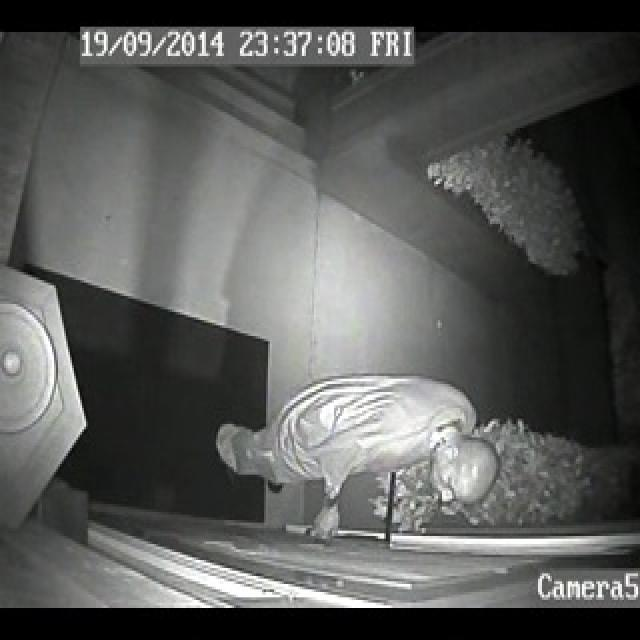thief: (213, 369, 508, 532)
